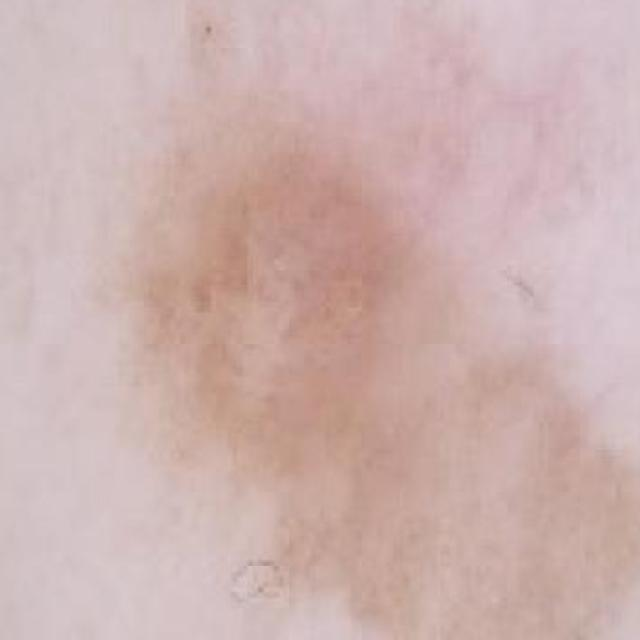DF: (76, 63, 640, 640)
